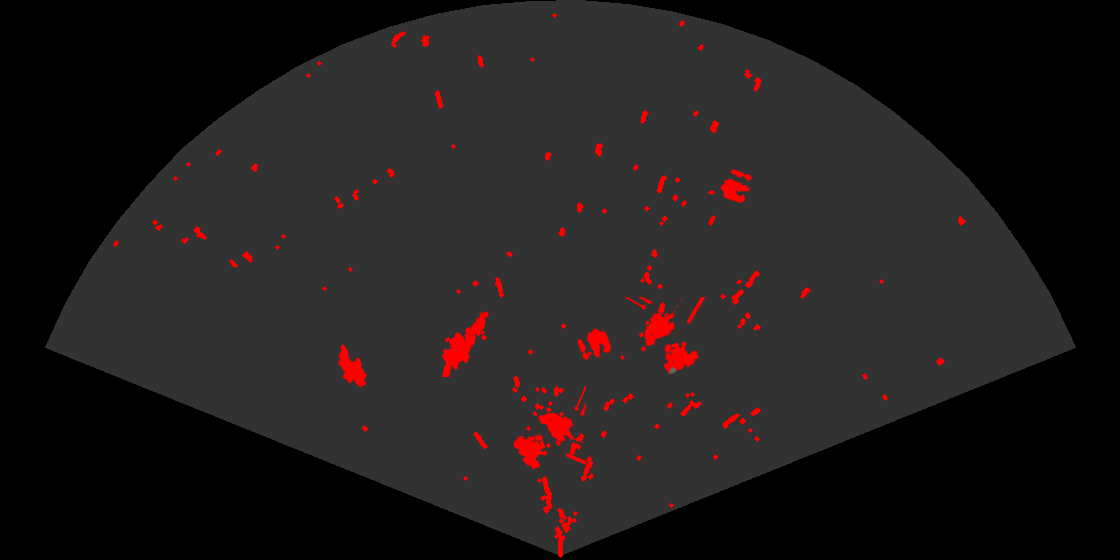AUV: (337, 343, 368, 389)
ball: (576, 327, 613, 362), (719, 168, 754, 205)
cage: (624, 297, 707, 376), (512, 386, 586, 471)
frogman: (440, 309, 490, 377)
